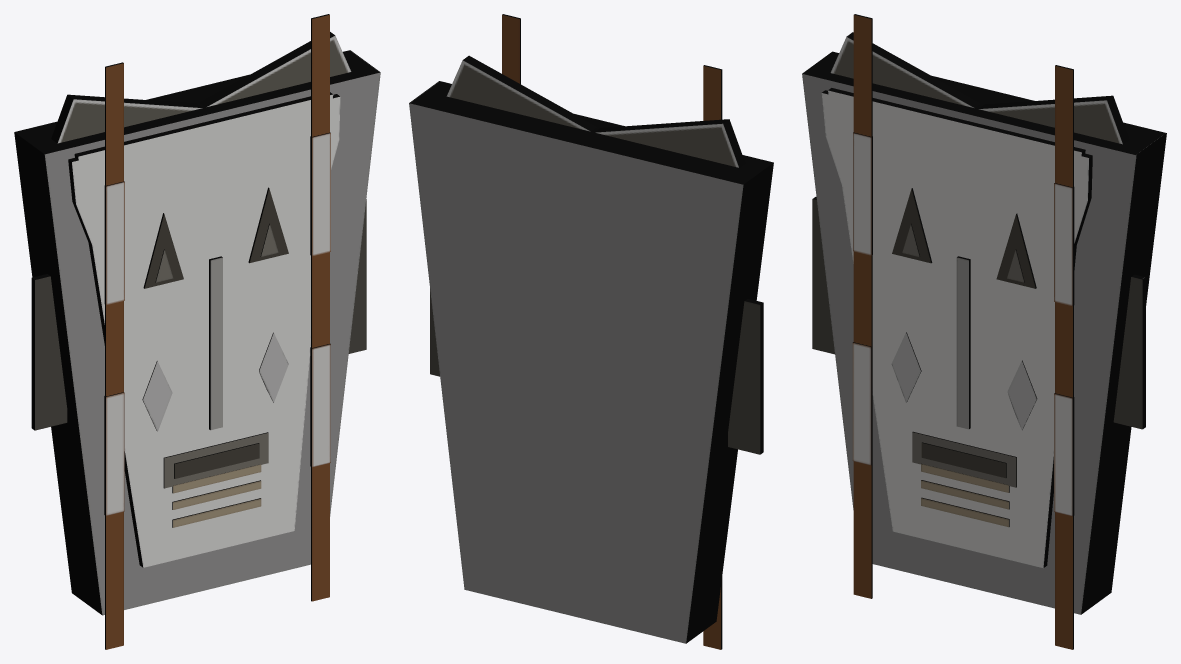
File: Mask2.fbx
3 views of the same model, side by side, from view 1: azimuth 30°, elevation 25°; view 2: azimuth 150°, elevation 25°; view 3: azimuth 330°, elevation 25° (orthographic).
Parts seen in each view (by area): view 1: Masks-3a-1-export; view 2: Masks-3a-1-export; view 3: Masks-3a-1-export.
Part boxes in pixels (x1,y1,x2,y2): Masks-3a-1-export: (14, 14, 380, 649); Masks-3a-1-export: (409, 14, 773, 649); Masks-3a-1-export: (802, 14, 1166, 649).
Bounding box in the file's own units: 99.16 × 164 × 19.24.
Materials: 1 (1 with a texture image).
